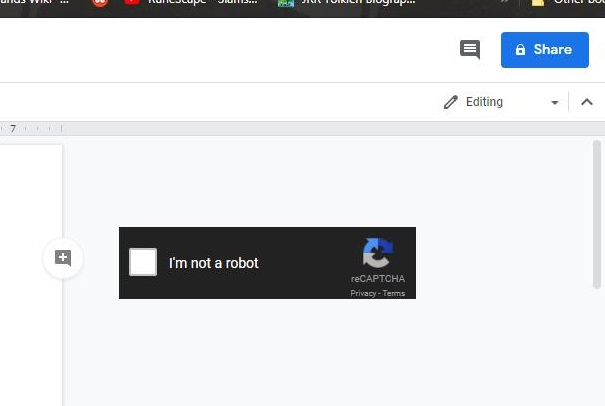captcha: (128, 247, 263, 276)
